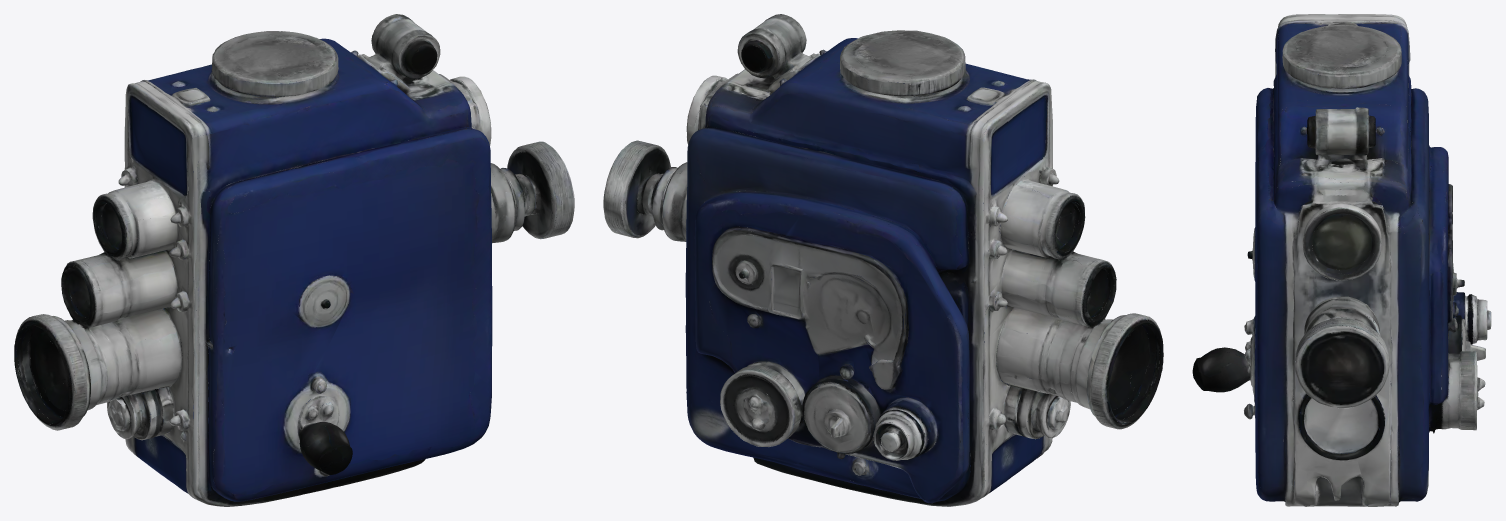
Rendered from camera.glb.
3 views of the same model, side by side, from view 1: azimuth 30°, elevation 25°; view 2: azimuth 150°, elevation 25°; view 3: azimuth 270°, elevation 25° (orthographic). The views are drawn at different scales.
Visible parts, largest first — view 1: Mesh_0; view 2: Mesh_0; view 3: Mesh_0.
Part boxes in pixels (left/top/right/bottom): Mesh_0: left=14, top=14, right=574, bottom=506; Mesh_0: left=603, top=14, right=1163, bottom=506; Mesh_0: left=1192, top=14, right=1491, bottom=506.
Bounding box in the file's own units: 1 × 0.7773 × 0.5313.
1 material, 1 textured.
